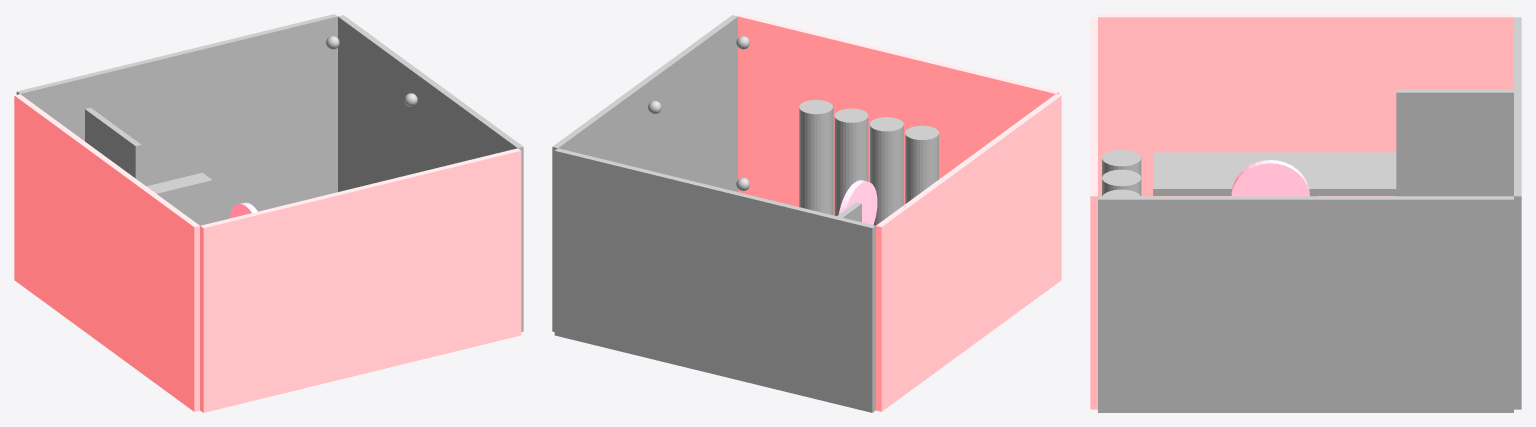
The model's file is car_room.dae.
3 renders of one model, left to right at view 1: azimuth 30°, elevation 25°; view 2: azimuth 150°, elevation 25°; view 3: azimuth 270°, elevation 25°, orthographic. The views are drawn at different scales.
Visible parts, largest first — view 1: Cube.001, Cube.002, Cube.003, Cube, Cube.006, Cube.005; view 2: Cube.002, Cube.003, Cube.001, Cube, Cylinder.003, Cylinder.001, Cylinder.002, Cylinder, Cylinder.006; view 3: Cube, Cube.003, Cube.006, Cube.004, Cube.002, Cube.001, Cylinder.006, Cylinder.001, Cylinder.
Part boxes in pixels (bbox=[...]): Cube.001: bbox=[200, 148, 521, 412]; Cube.002: bbox=[16, 14, 337, 222]; Cube.003: bbox=[14, 94, 199, 411]; Cube: bbox=[338, 15, 523, 331]; Cube.006: bbox=[85, 107, 141, 182]; Cube.005: bbox=[146, 172, 212, 225]; Cube.002: bbox=[554, 148, 875, 412]; Cube.003: bbox=[876, 94, 1061, 411]; Cube.001: bbox=[738, 14, 1059, 215]; Cube: bbox=[552, 15, 737, 331]; Cylinder.003: bbox=[799, 100, 833, 215]; Cylinder.001: bbox=[870, 117, 903, 225]; Cylinder.002: bbox=[834, 108, 868, 216]; Cylinder: bbox=[905, 125, 938, 203]; Cylinder.006: bbox=[838, 180, 877, 224]; Cube: bbox=[1098, 196, 1513, 412]; Cube.003: bbox=[1098, 14, 1513, 196]; Cube.006: bbox=[1396, 89, 1513, 196]; Cube.004: bbox=[1153, 152, 1396, 195]; Cube.002: bbox=[1514, 17, 1521, 409]; Cube.001: bbox=[1090, 17, 1097, 409]; Cylinder.006: bbox=[1231, 160, 1309, 196]; Cylinder.001: bbox=[1102, 169, 1141, 195]; Cylinder: bbox=[1102, 149, 1141, 177].
Size of the model in its own units: 5.6 by 5.5 by 3.
